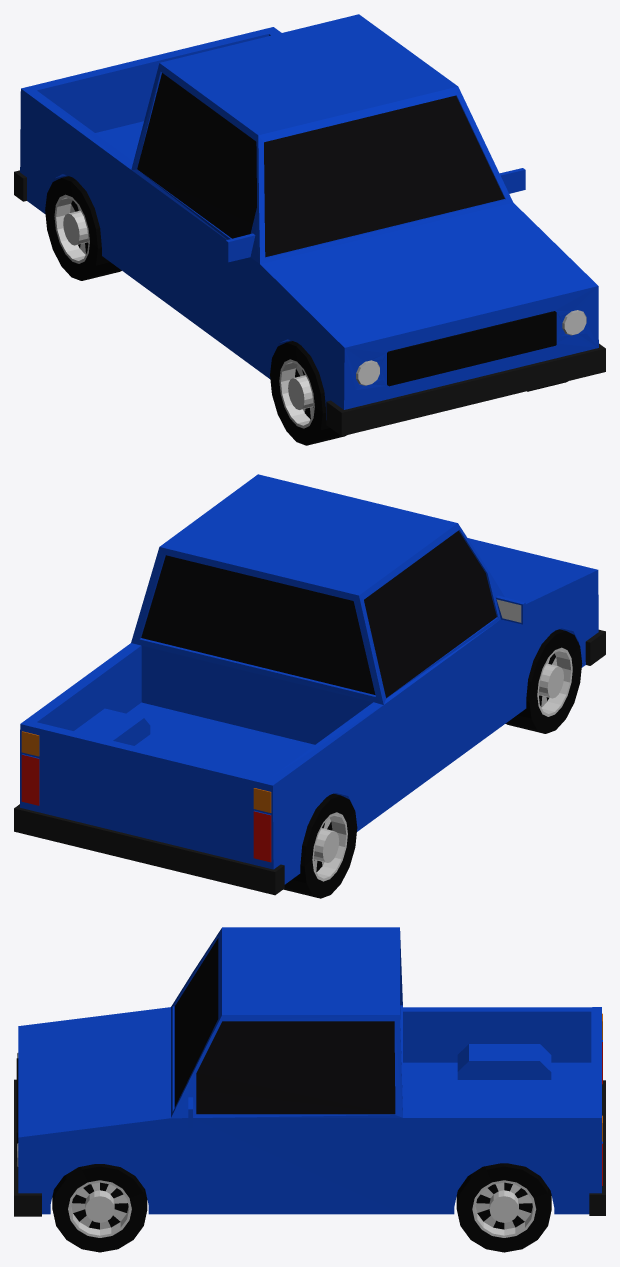
The model's file is FBX_Car_A.fbx.
The picture shows the model from 3 angles, top to bottom: view 1: azimuth 30°, elevation 25°; view 2: azimuth 150°, elevation 25°; view 3: azimuth 270°, elevation 25°; orthographic projection. The views are drawn at different scales.
Visible parts, largest first — view 1: Body, Tire_2, Tire_1; view 2: Body, Tire_2, Tire_1; view 3: Body, Tire_3, Tire_4.
Boxes of the visible parts, left/top/right/bottom form: Body: left=14, top=14, right=605, bottom=436; Tire_2: left=45, top=176, right=121, bottom=280; Tire_1: left=270, top=341, right=346, bottom=445; Body: left=14, top=474, right=605, bottom=895; Tire_2: left=283, top=793, right=357, bottom=898; Tire_1: left=505, top=629, right=582, bottom=733; Body: left=14, top=927, right=605, bottom=1216; Tire_3: left=456, top=1163, right=551, bottom=1252; Tire_4: left=52, top=1164, right=147, bottom=1252.
Bounding box in the file's own units: 2.33 × 1.87 × 4.46.
